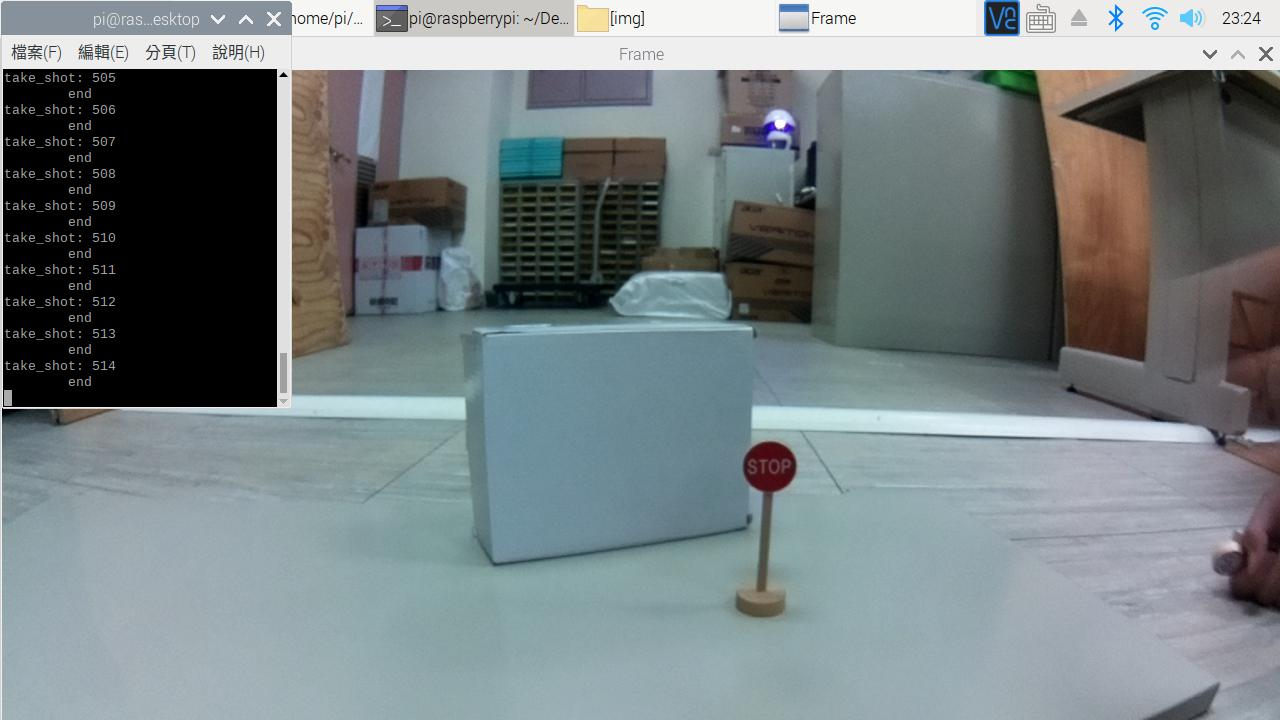Stop: (743, 442, 801, 494)
